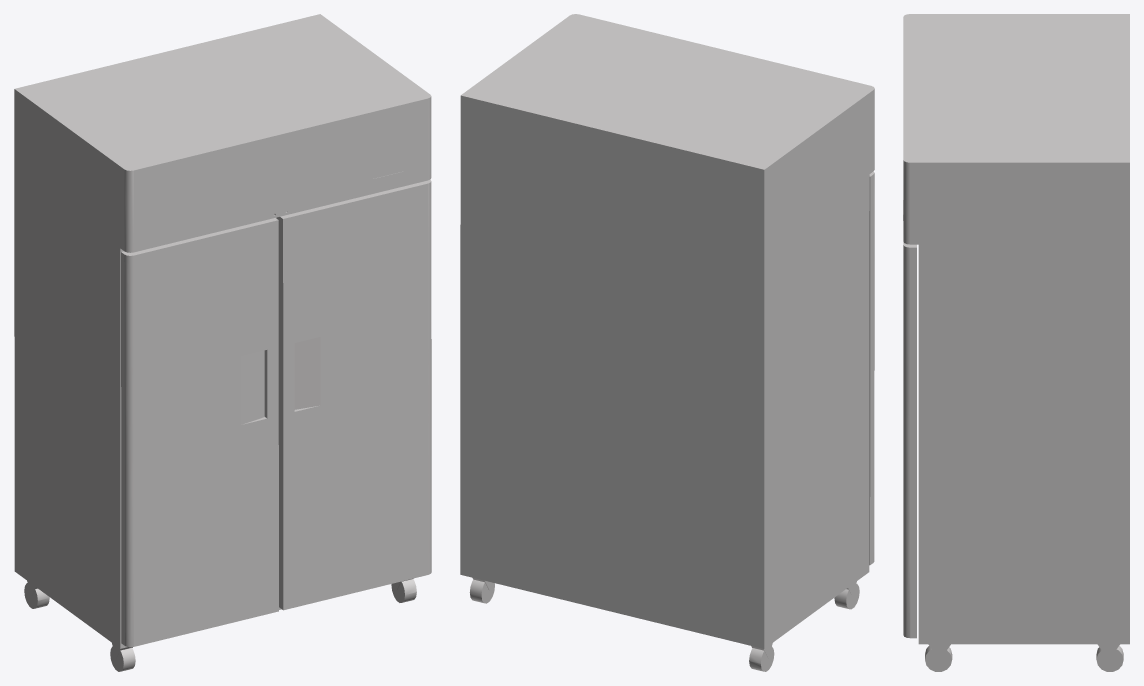
File: kt_reach_in_fridge.fbx
The picture shows the model from 3 angles, left to right: view 1: azimuth 30°, elevation 25°; view 2: azimuth 150°, elevation 25°; view 3: azimuth 270°, elevation 25°; orthographic projection.
Parts seen in each view (by area): view 1: kt_reach_in_fridge_LOD0; view 2: kt_reach_in_fridge_LOD0; view 3: kt_reach_in_fridge_LOD0.
Part boxes in pixels (x1,y1,x2,y2): kt_reach_in_fridge_LOD0: [14, 14, 431, 671]; kt_reach_in_fridge_LOD0: [460, 14, 874, 671]; kt_reach_in_fridge_LOD0: [903, 14, 1129, 671].
Size of what is drawn, in the model's own units: 1.28 by 2.05 by 0.8223.
Materials: 1 (1 with a texture image).
